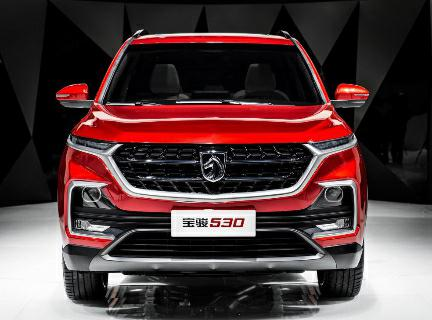宝骏-530: (54, 28, 378, 308)
